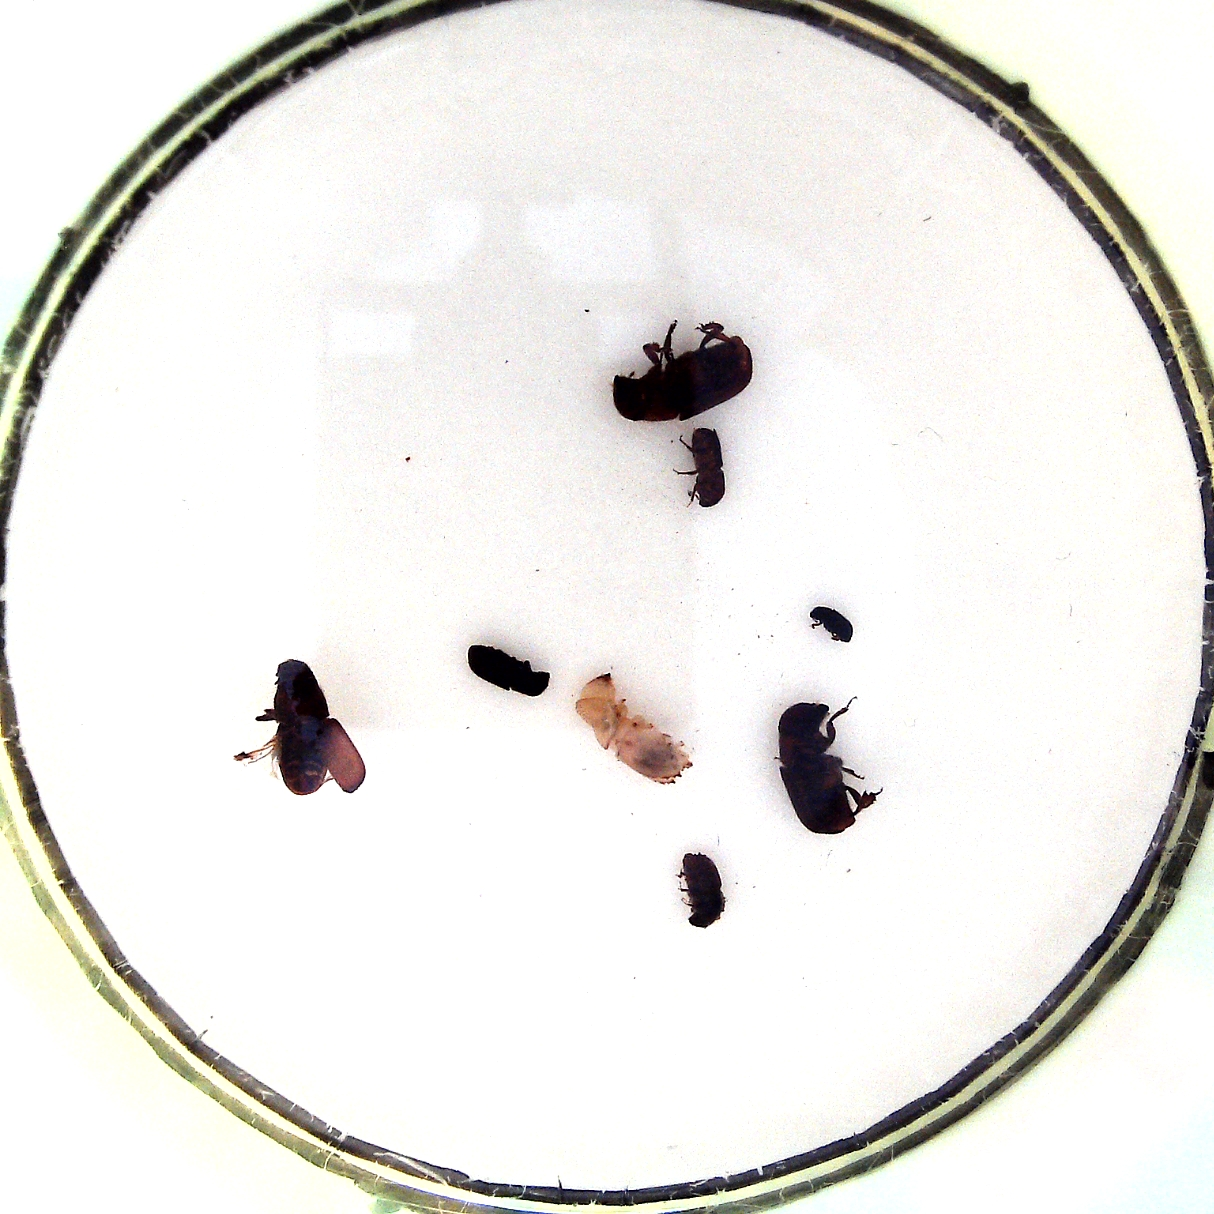Boerner: (570, 670, 698, 786)
Leconte: (235, 653, 368, 799), (773, 696, 885, 840), (608, 320, 755, 424)
Linnaeus: (676, 848, 732, 929)
acuminatus: (675, 424, 729, 509)
armandi: (465, 637, 553, 699)
coleoptera: (806, 604, 862, 645)
